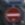No entry: (5, 5, 20, 20)
